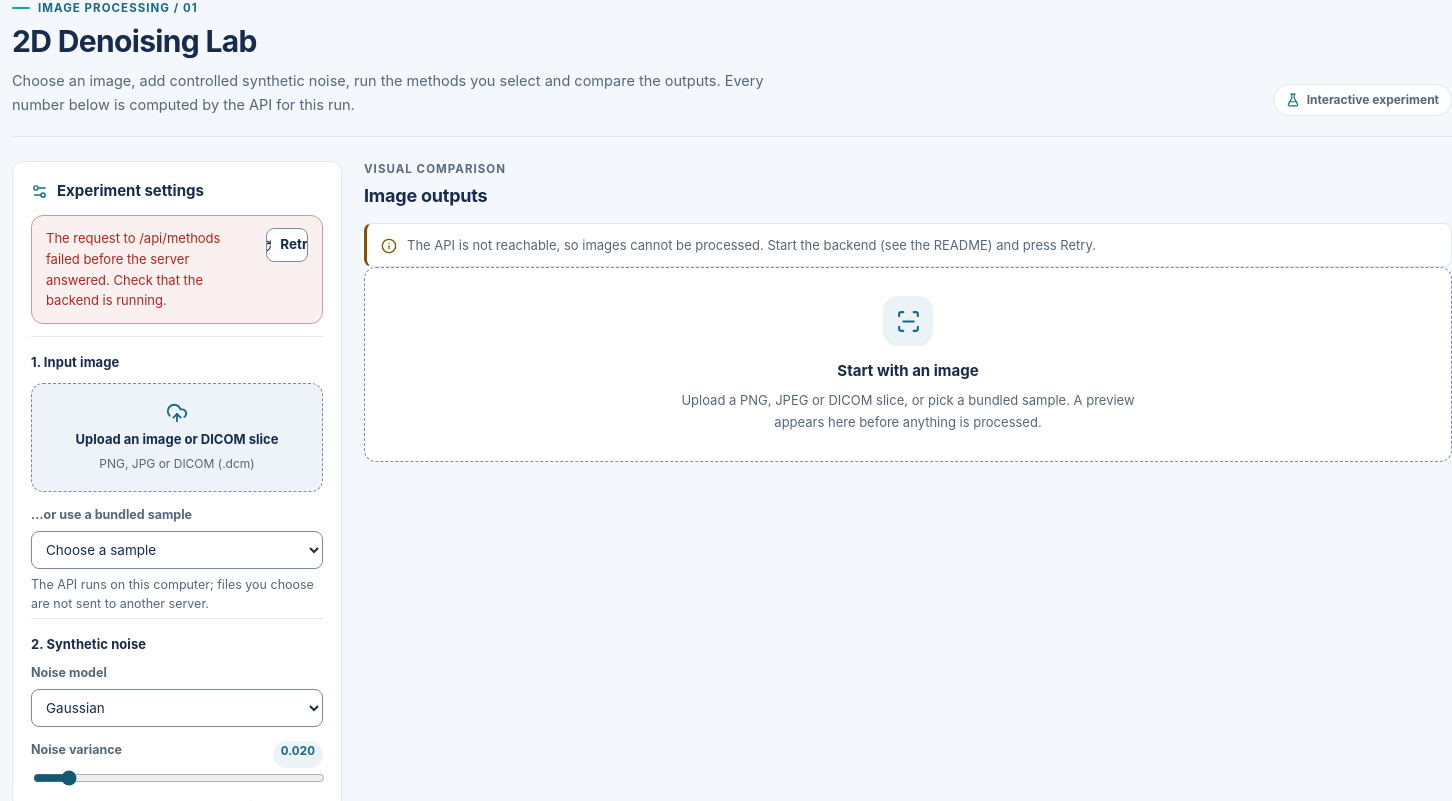
2D lab: catalogue and controls › shows the empty state and a retry when the API cannot be reached, then recovers
Expected: the text "failed before the server answered" is shown, [46,230,220,308]
Expected: the heading "Start with an image" is shown, [837,360,979,383]
Click the button "Retry".
click(287, 245)  # box [266,228,308,262]
(page scrolled)
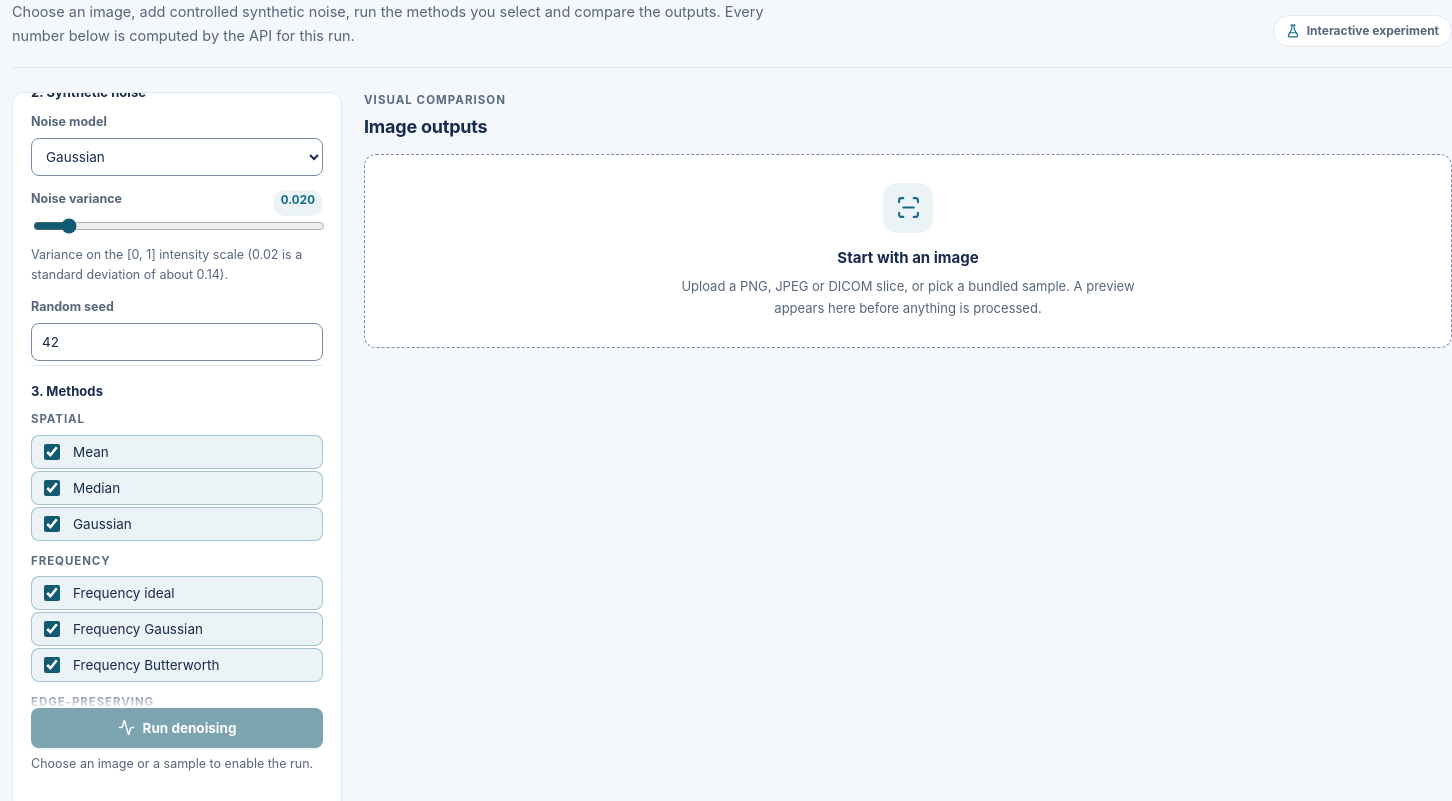
Now the checkbox labelled "Mean" is shown, box [44,444,60,460]
Now the text "failed before the server answered" is gone
